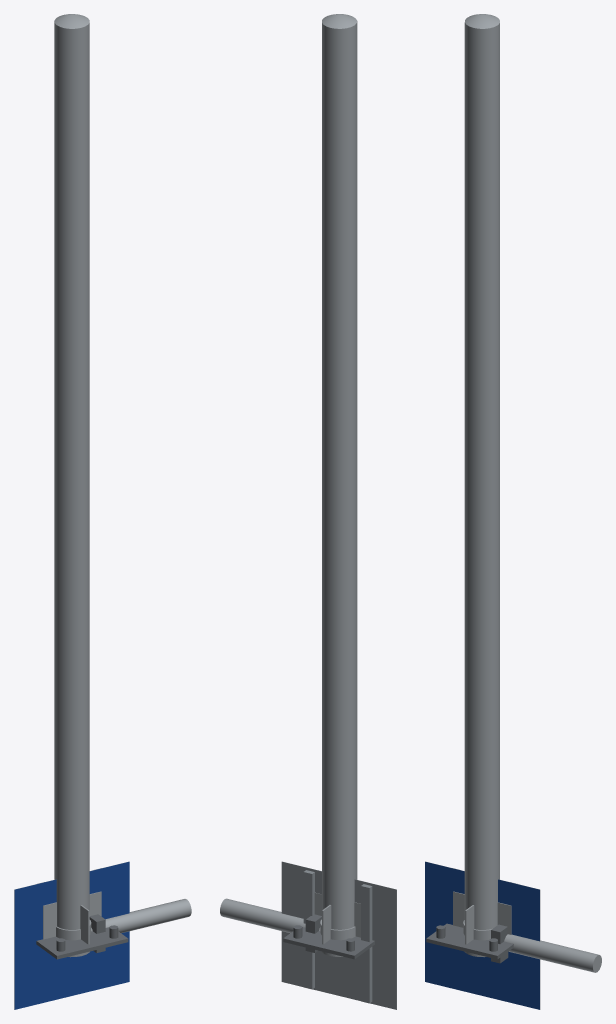
Rendered from guide_signs.glb.
The picture shows the model from 3 angles, left to right: view 1: azimuth 30°, elevation 25°; view 2: azimuth 150°, elevation 25°; view 3: azimuth 330°, elevation 25°; orthographic projection.
Visible parts, largest first — view 1: GuidePole, GuideBoard, GuideArm, GuideFlange; view 2: GuidePole, GuideBoard, GuideArm, GuideFlange; view 3: GuidePole, GuideBoard, GuideArm, GuideFlange.
Part boxes in pixels (<box>): GuidePole: <box>36,14,128,959</box>; GuideBoard: <box>14,861,129,1009</box>; GuideArm: <box>91,899,191,933</box>; GuideFlange: <box>56,914,105,957</box>; GuidePole: <box>283,14,374,959</box>; GuideBoard: <box>281,861,396,1009</box>; GuideArm: <box>220,898,320,932</box>; GuideFlange: <box>305,914,355,956</box>; GuidePole: <box>426,14,513,959</box>; GuideBoard: <box>425,861,540,1009</box>; GuideArm: <box>504,934,601,972</box>; GuideFlange: <box>463,920,508,963</box>.
Bounding box in the file's own units: 1.5 × 8.16 × 0.62.
